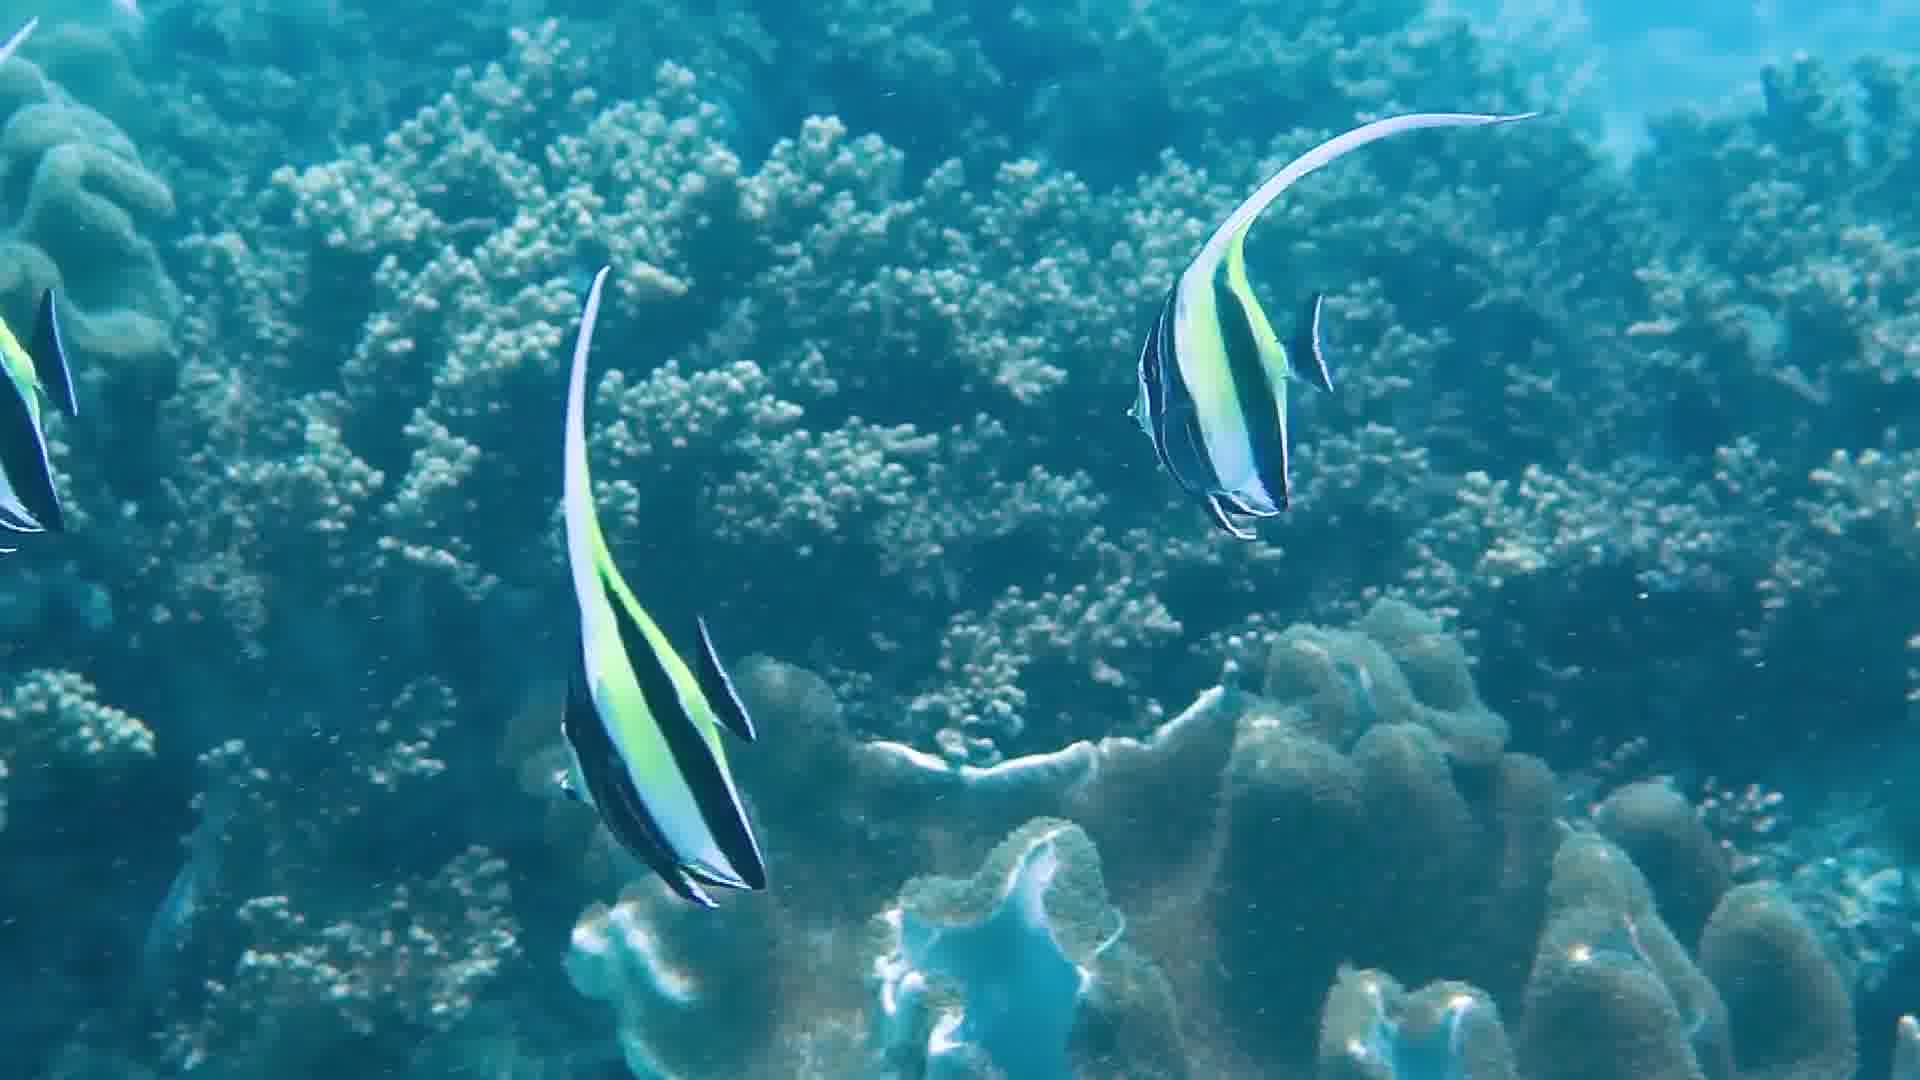Zanclus cornutus: (533, 538, 815, 899), (1095, 220, 1365, 534)
